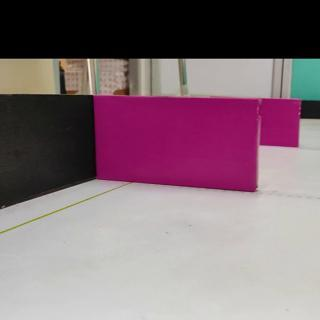xparking: (93, 95, 258, 189), (263, 99, 300, 147)
